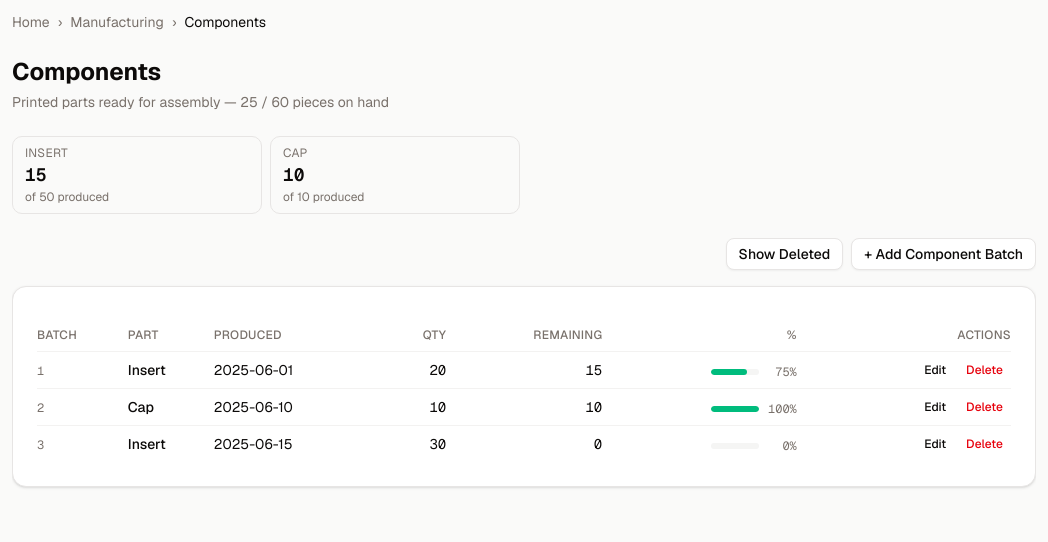
ComponentsPage › renders deleted items with reduced opacity and restore/purge buttons
Click the button "Show Deleted".
click(784, 254)  # box left=726, top=238, right=843, bottom=270
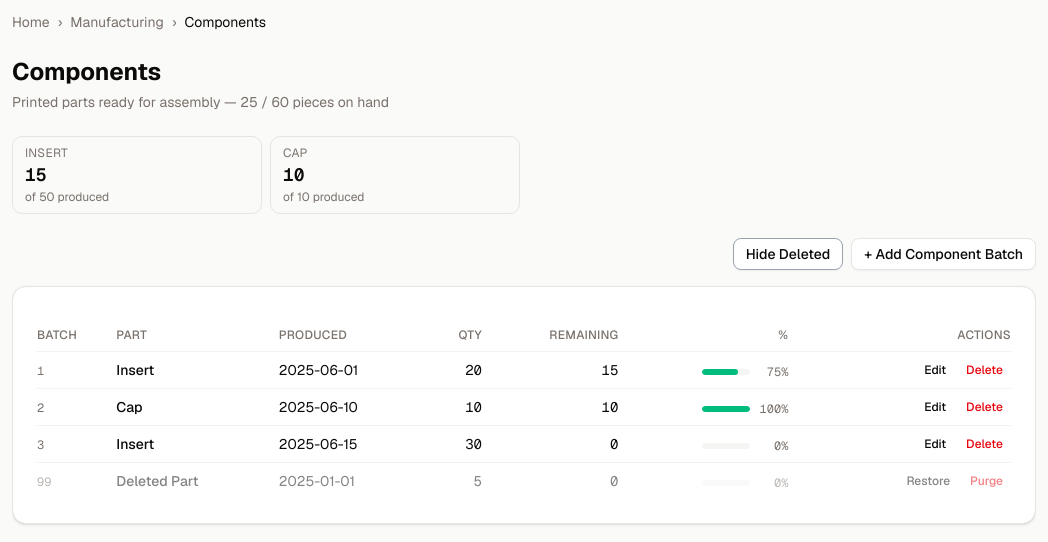
Result: the text "Deleted Part" is shown at left=116, top=472, right=199, bottom=490
